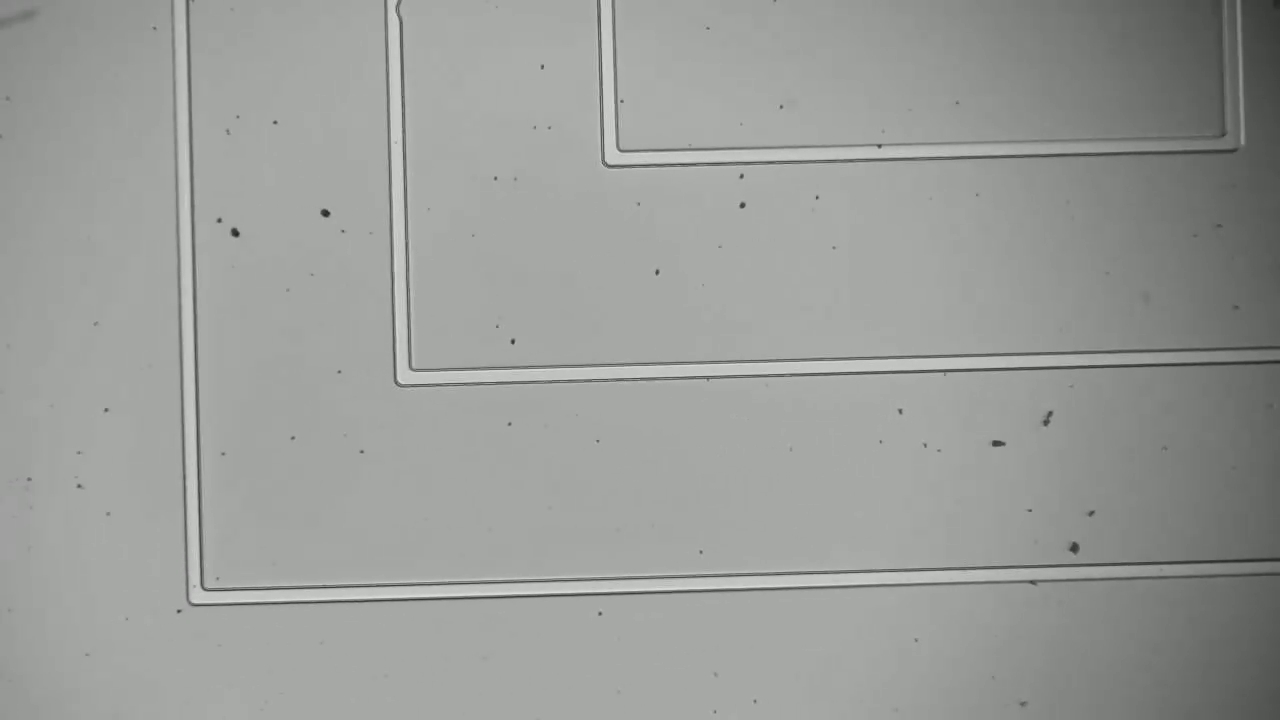edge_bite: (370, 1, 412, 25)
